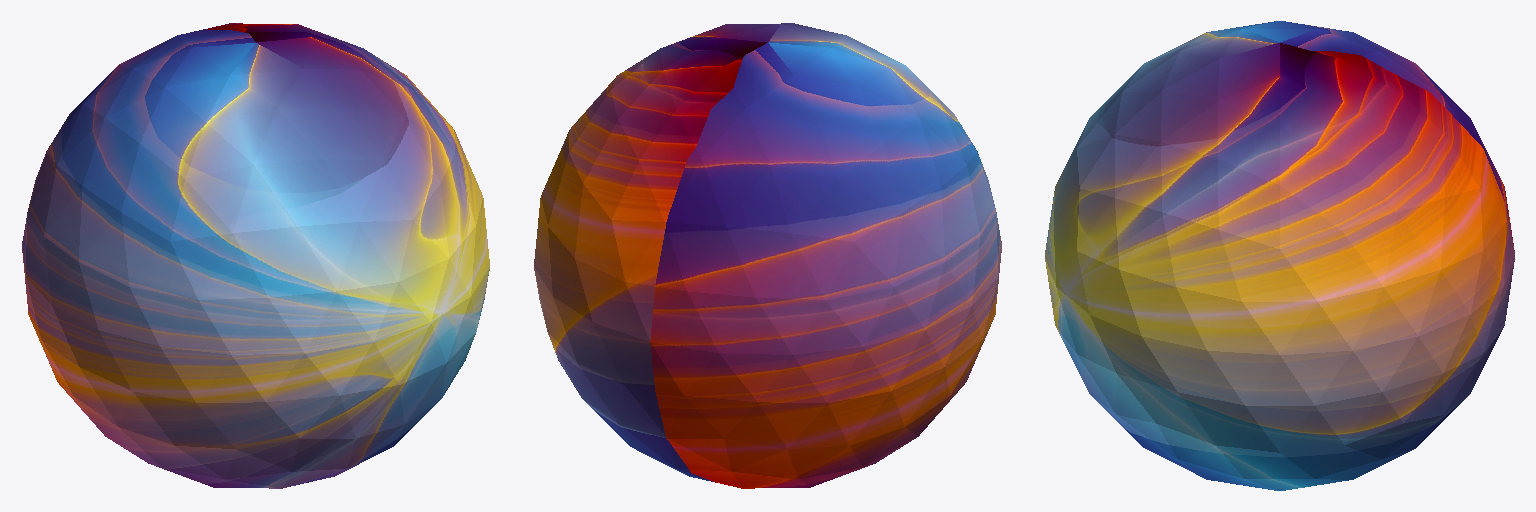
The picture shows the model from 3 angles: view 1: azimuth 30°, elevation 25°; view 2: azimuth 150°, elevation 25°; view 3: azimuth 270°, elevation 25°; orthographic projection.
Visible parts, largest first — view 1: GeoSphere001; view 2: GeoSphere001; view 3: GeoSphere001.
Boxes of the visible parts, x1,y1,x2,y2 form: GeoSphere001: [22, 23, 489, 488]; GeoSphere001: [534, 23, 1001, 488]; GeoSphere001: [1045, 21, 1514, 490].
Size of the model in its own units: 1 by 1 by 1.
Materials: 1 (1 with a texture image).